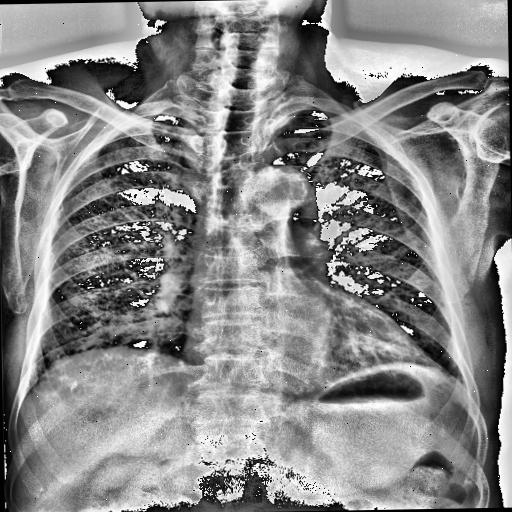0- Aortic enlargement: (252, 164, 320, 234), (243, 167, 318, 217), (244, 166, 316, 210)
3- Cardiomegaly: (180, 304, 441, 380), (183, 320, 433, 368)
5- ILD: (65, 312, 190, 356)
9- Other lesion: (65, 312, 190, 356)
